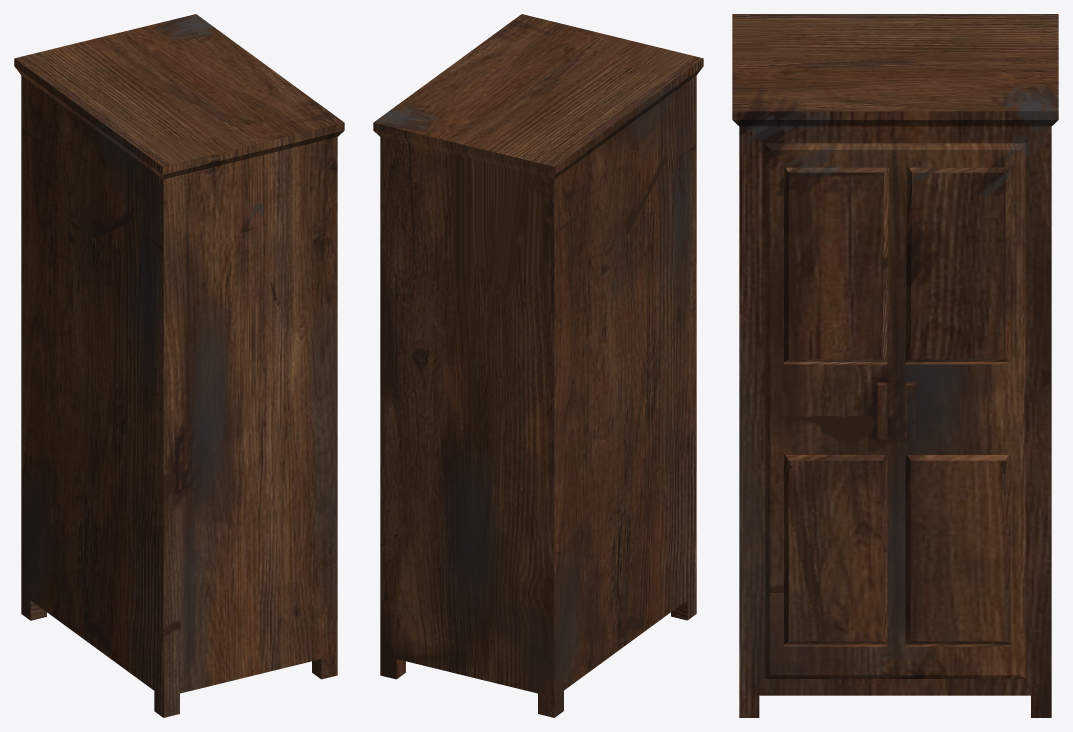
File: closet.glb
The picture shows the model from 3 angles, left to right: view 1: azimuth 30°, elevation 25°; view 2: azimuth 150°, elevation 25°; view 3: azimuth 270°, elevation 25°; orthographic projection. The views are drawn at different scales.
Visible parts, largest first — view 1: Cube; view 2: Cube; view 3: Cube.
Part boxes in pixels (x1,y1,x2,y2): Cube: [14, 14, 344, 717]; Cube: [373, 14, 703, 717]; Cube: [732, 14, 1058, 717].
Size of the model in its own units: 2.14 by 6.08 by 2.95.
1 material, 1 textured.
